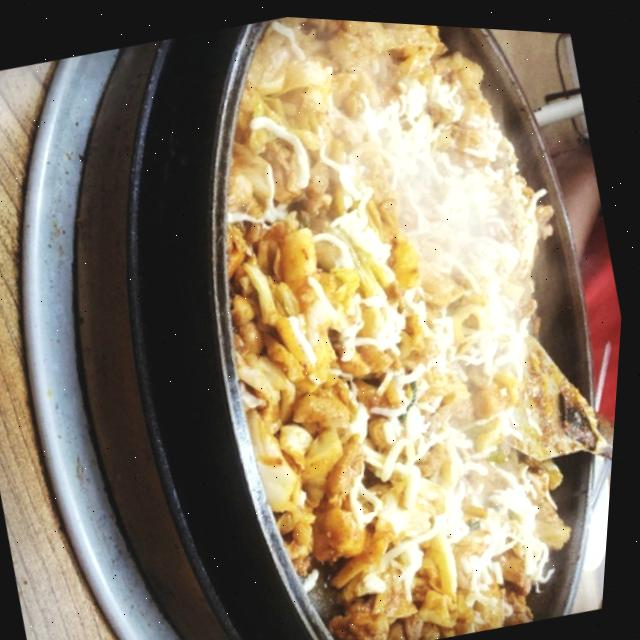鸡肉料理 含炸鸡: (99, 6, 640, 640)
